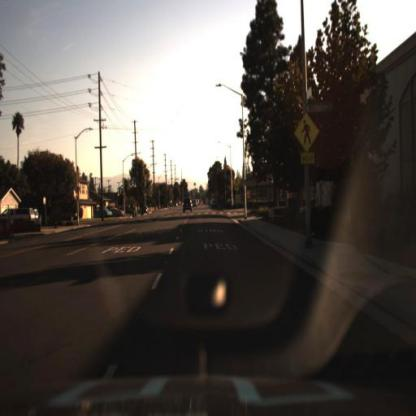car: (1, 198, 37, 227), (1, 204, 38, 224), (90, 204, 113, 222), (180, 195, 196, 219), (92, 206, 114, 219), (110, 205, 127, 220), (137, 204, 152, 221), (140, 202, 151, 219)
